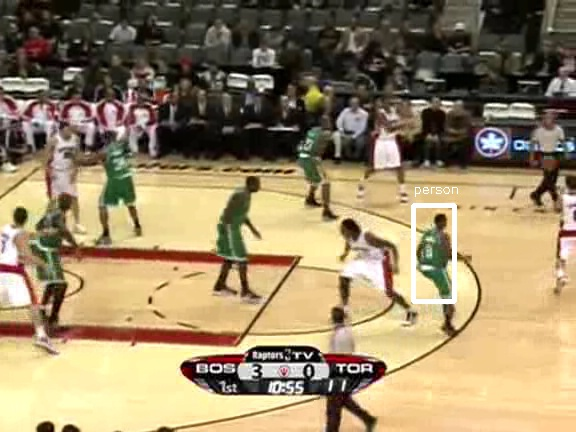person: (414, 223, 448, 304), (413, 223, 447, 304), (415, 223, 449, 304), (414, 222, 448, 303), (414, 224, 448, 305)
target_negative: (38, 63, 291, 203), (474, 143, 554, 276), (317, 123, 332, 315), (435, 79, 556, 88), (294, 138, 310, 190), (505, 373, 561, 374)
